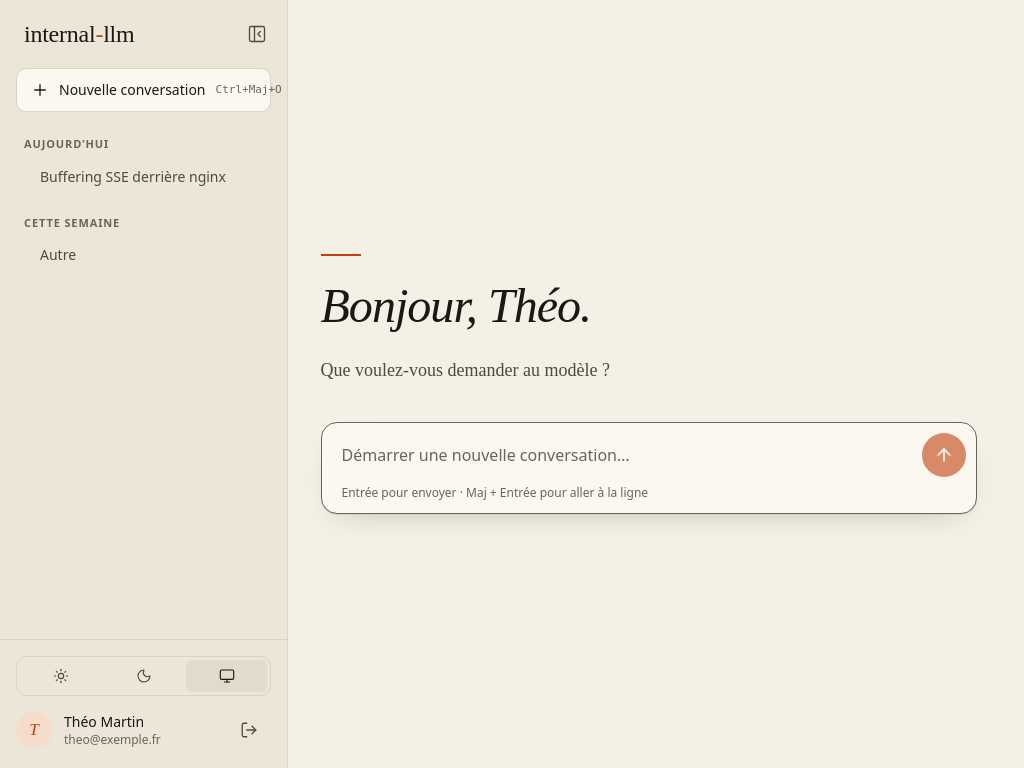
it: conversation list › opens a conversation and highlights it
The image size is (1024, 768).
Click the link "Buffering SSE derrière nginx" at (133, 176), box [40,166,226,186]
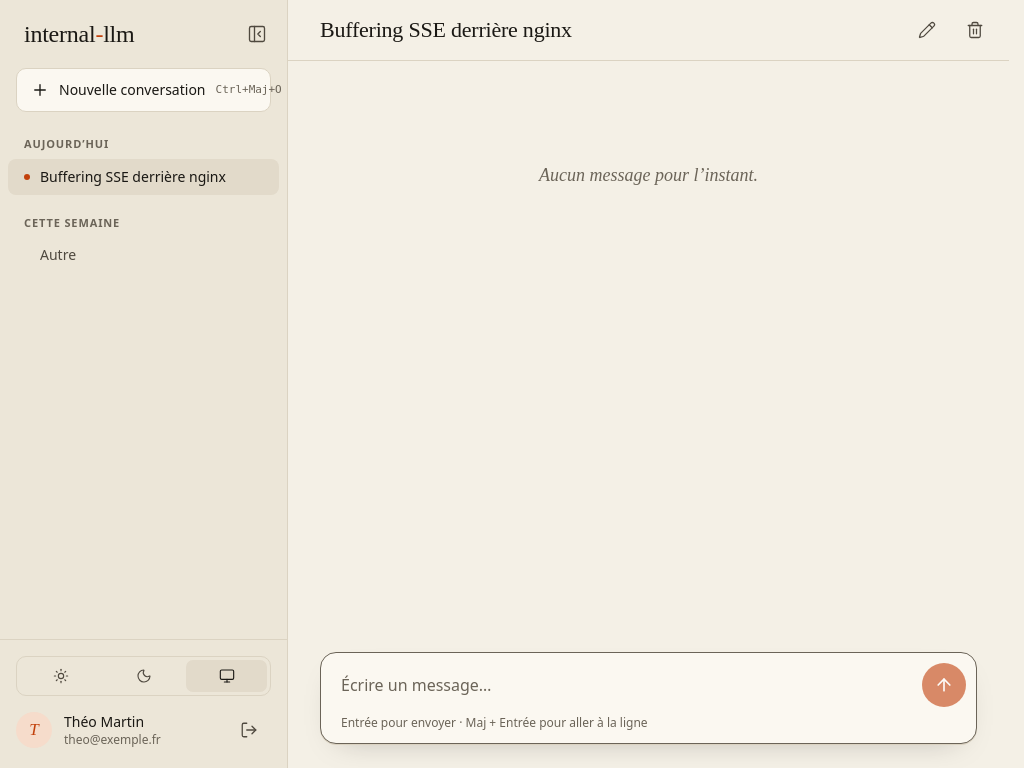
Now the heading "Buffering SSE derrière nginx" is shown, box [320,17,572,42]
